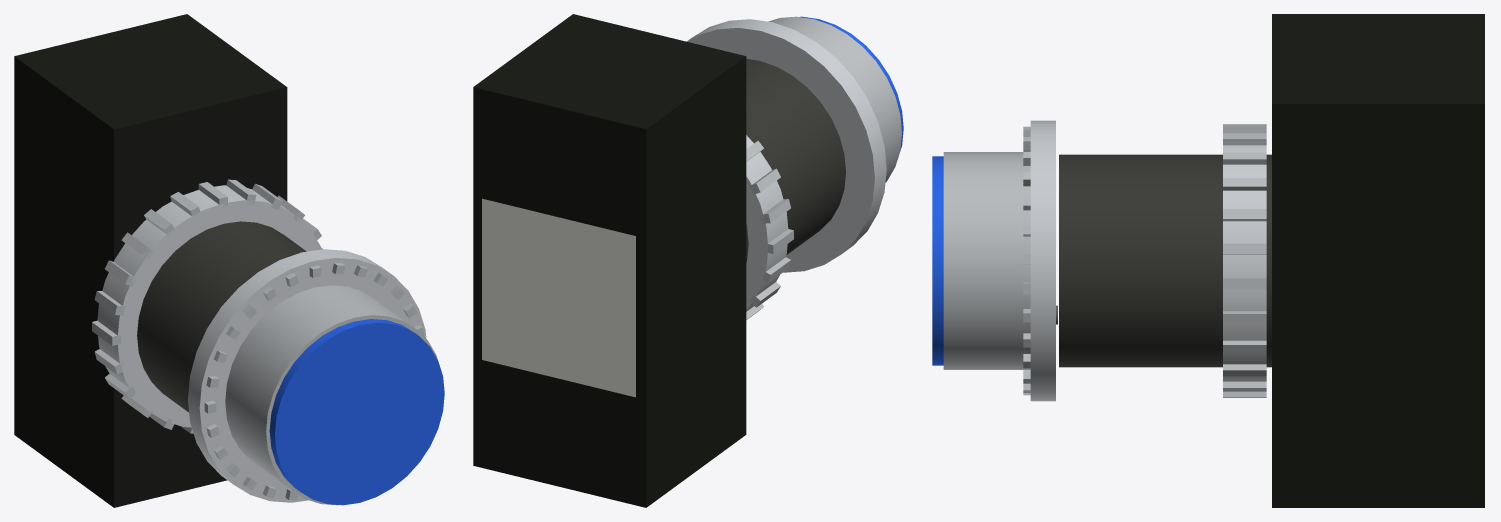
The model's file is pushButtonXb2Blue.glb.
The picture shows the model from 3 angles, left to right: view 1: azimuth 30°, elevation 25°; view 2: azimuth 150°, elevation 25°; view 3: azimuth 270°, elevation 25°; orthographic projection. The views are drawn at different scales.
Visible parts, largest first — view 1: industrial_xb2_contact, industrial_xb2_cap_face, industrial_xb2_body, industrial_xb2_bezel, industrial_xb2_cap, industrial_xb2_locknut; view 2: industrial_xb2_contact, industrial_xb2_etch_back, industrial_xb2_bezel, industrial_xb2_body, industrial_xb2_cap, industrial_xb2_locknut, industrial_xb2_cap_face; view 3: industrial_xb2_contact, industrial_xb2_body, industrial_xb2_cap, industrial_xb2_bezel, industrial_xb2_locknut, industrial_xb2_cap_face, industrial_xb2_locknut_knurl_23.
Boxes of the visible parts, x1,y1,x2,y2 form: industrial_xb2_contact: (14,14,287,507); industrial_xb2_cap_face: (269,319,444,505); industrial_xb2_body: (137,221,306,412); industrial_xb2_bezel: (188,249,426,502); industrial_xb2_cap: (225,285,437,505); industrial_xb2_locknut: (97,185,321,427); industrial_xb2_contact: (473,14,746,507); industrial_xb2_etch_back: (482,198,635,397); industrial_xb2_bezel: (687,19,886,272); industrial_xb2_body: (746,59,845,262); industrial_xb2_cap: (768,16,901,182); industrial_xb2_locknut: (746,135,788,311); industrial_xb2_cap_face: (800,16,903,150); industrial_xb2_contact: (1272,14,1484,507); industrial_xb2_body: (1059,154,1271,367); industrial_xb2_cap: (943,152,1030,369); industrial_xb2_bezel: (1030,120,1055,401); industrial_xb2_locknut: (1223,133,1266,381); industrial_xb2_cap_face: (932,156,943,365); industrial_xb2_locknut_knurl_23: (1223,340,1266,353).
Bounding box in the file's own units: 0.029 × 0.0463 × 0.0572.
